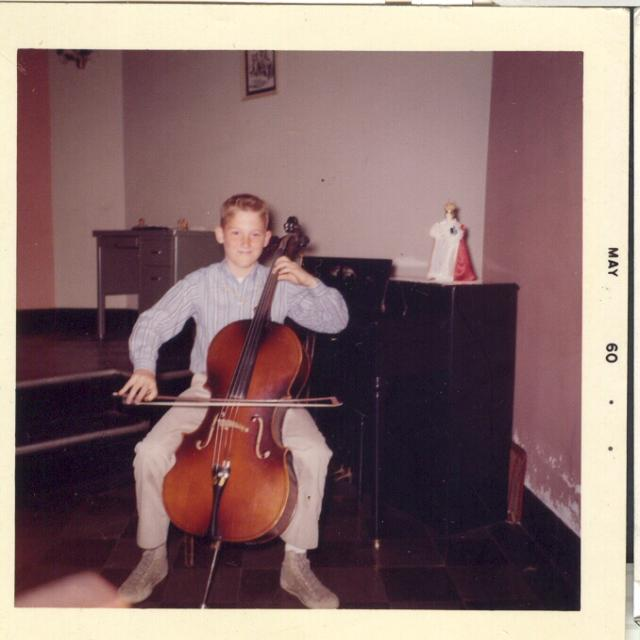cello: (161, 214, 320, 549)
